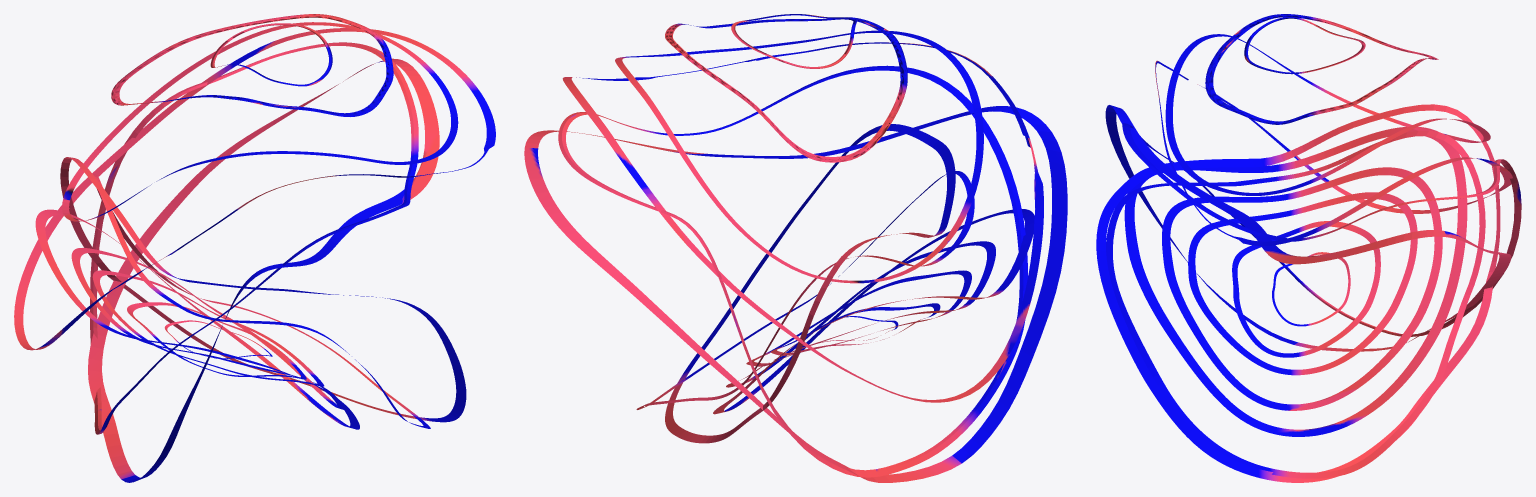
The model's file is circ_color.glb.
3 views of the same model, side by side, from view 1: azimuth 30°, elevation 25°; view 2: azimuth 150°, elevation 25°; view 3: azimuth 270°, elevation 25° (orthographic). The views are drawn at different scales.
Parts seen in each view (by area): view 1: 6, 4, 5, 7, 3, 2, 9, 8, 10, 11, 12, 1; view 2: 6, 5, 4, 7, 3, 2, 9, 8, 10, 11, 1, 12; view 3: 7, 9, 8, 10, 6, 11, 5, 3, 4, 2, 12, 1 (+1 smaller).
Boxes of the visible parts, x1,y1,x2,y2 form: 6: (88,58,439,482); 4: (14,28,495,350); 5: (90,42,418,434); 7: (60,157,466,422); 3: (62,22,458,221); 2: (111,14,393,116); 9: (35,209,359,429); 8: (92,173,430,428); 10: (71,248,343,409); 11: (92,270,324,386); 12: (127,302,306,379); 1: (210,23,332,86); 6: (524,106,1067,482); 5: (558,65,1028,477); 4: (562,42,1043,402); 7: (665,124,955,443); 3: (615,30,983,283); 2: (665,17,907,162); 9: (713,209,1034,414); 8: (636,171,974,409); 10: (726,241,995,387); 11: (746,270,971,366); 1: (731,14,856,68); 12: (771,303,940,355); 7: (1096,104,1500,482); 9: (1124,127,1467,436); 8: (1106,130,1485,478); 10: (1162,167,1442,410); 6: (1105,105,1511,351); 11: (1188,192,1417,375); 5: (1122,123,1521,336); 3: (1165,34,1490,195); 4: (1155,60,1512,245); 2: (1205,14,1438,124); 12: (1232,221,1380,357); 1: (1244,17,1365,74).
Bounding box in the file's own units: 1.93 × 1.71 × 1.71.
1 material, 1 textured.
